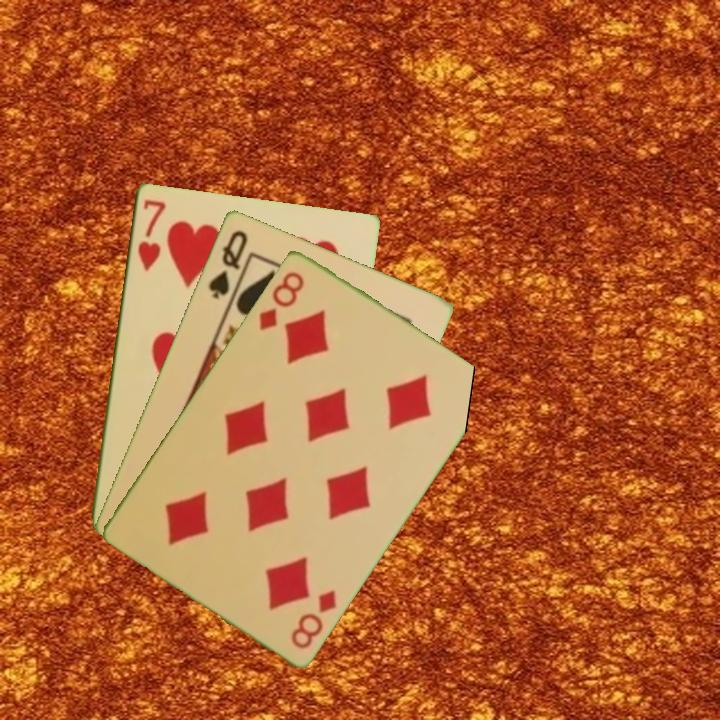7h: (133, 195, 168, 274)
8d: (287, 585, 340, 652), (255, 267, 307, 333)
Qs: (204, 226, 250, 302)
